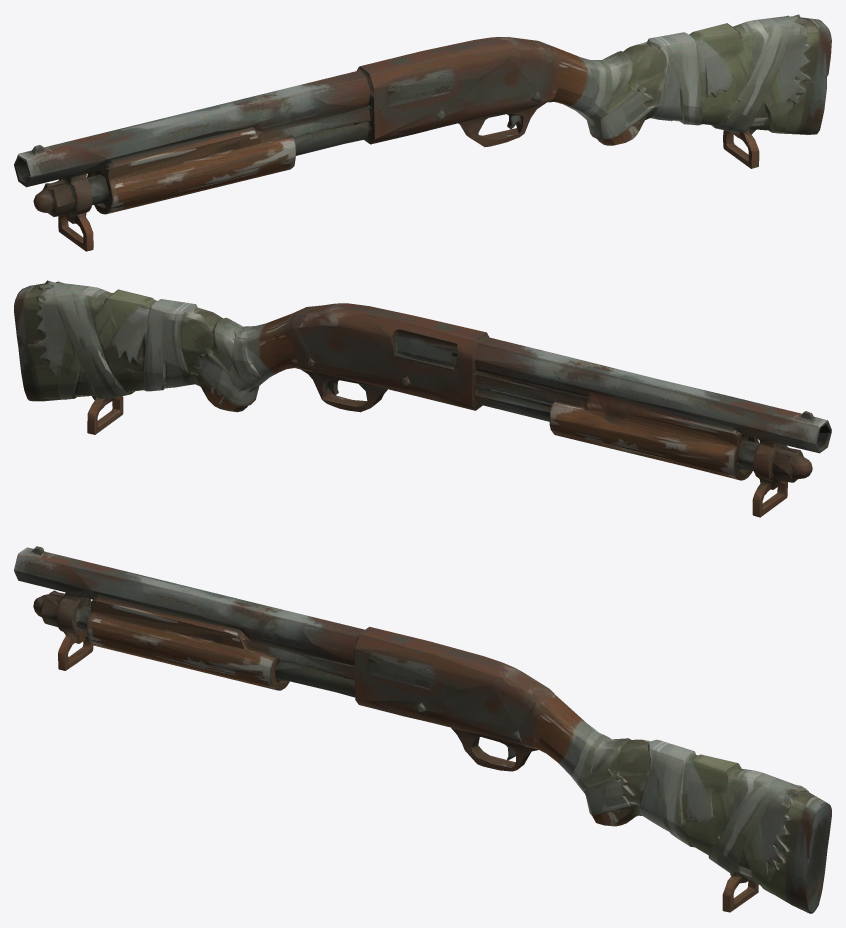
Rendered from gun_shotgun.glb.
3 renders of one model, top to bottom at view 1: azimuth 30°, elevation 25°; view 2: azimuth 150°, elevation 25°; view 3: azimuth 330°, elevation 25°, orthographic.
Bounding box in the file's own units: 1.9 × 0.4153 × 0.1186.
Materials: 1 (1 with a texture image).
